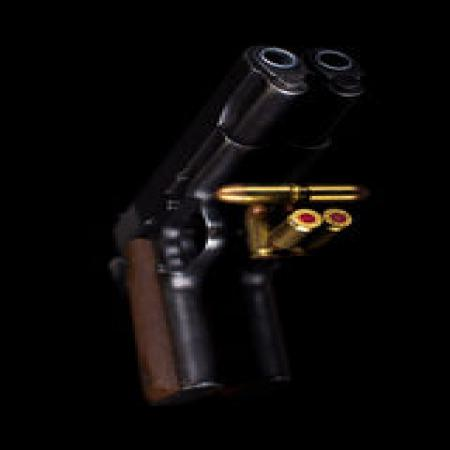Pistol: (102, 43, 310, 407)
